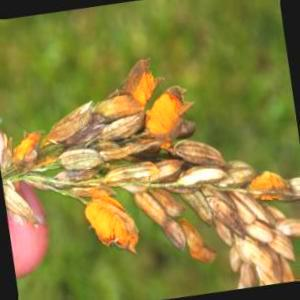Leaf_Scald: (84, 187, 131, 249), (139, 98, 198, 137), (3, 132, 48, 165), (126, 58, 154, 107), (259, 163, 291, 204)
